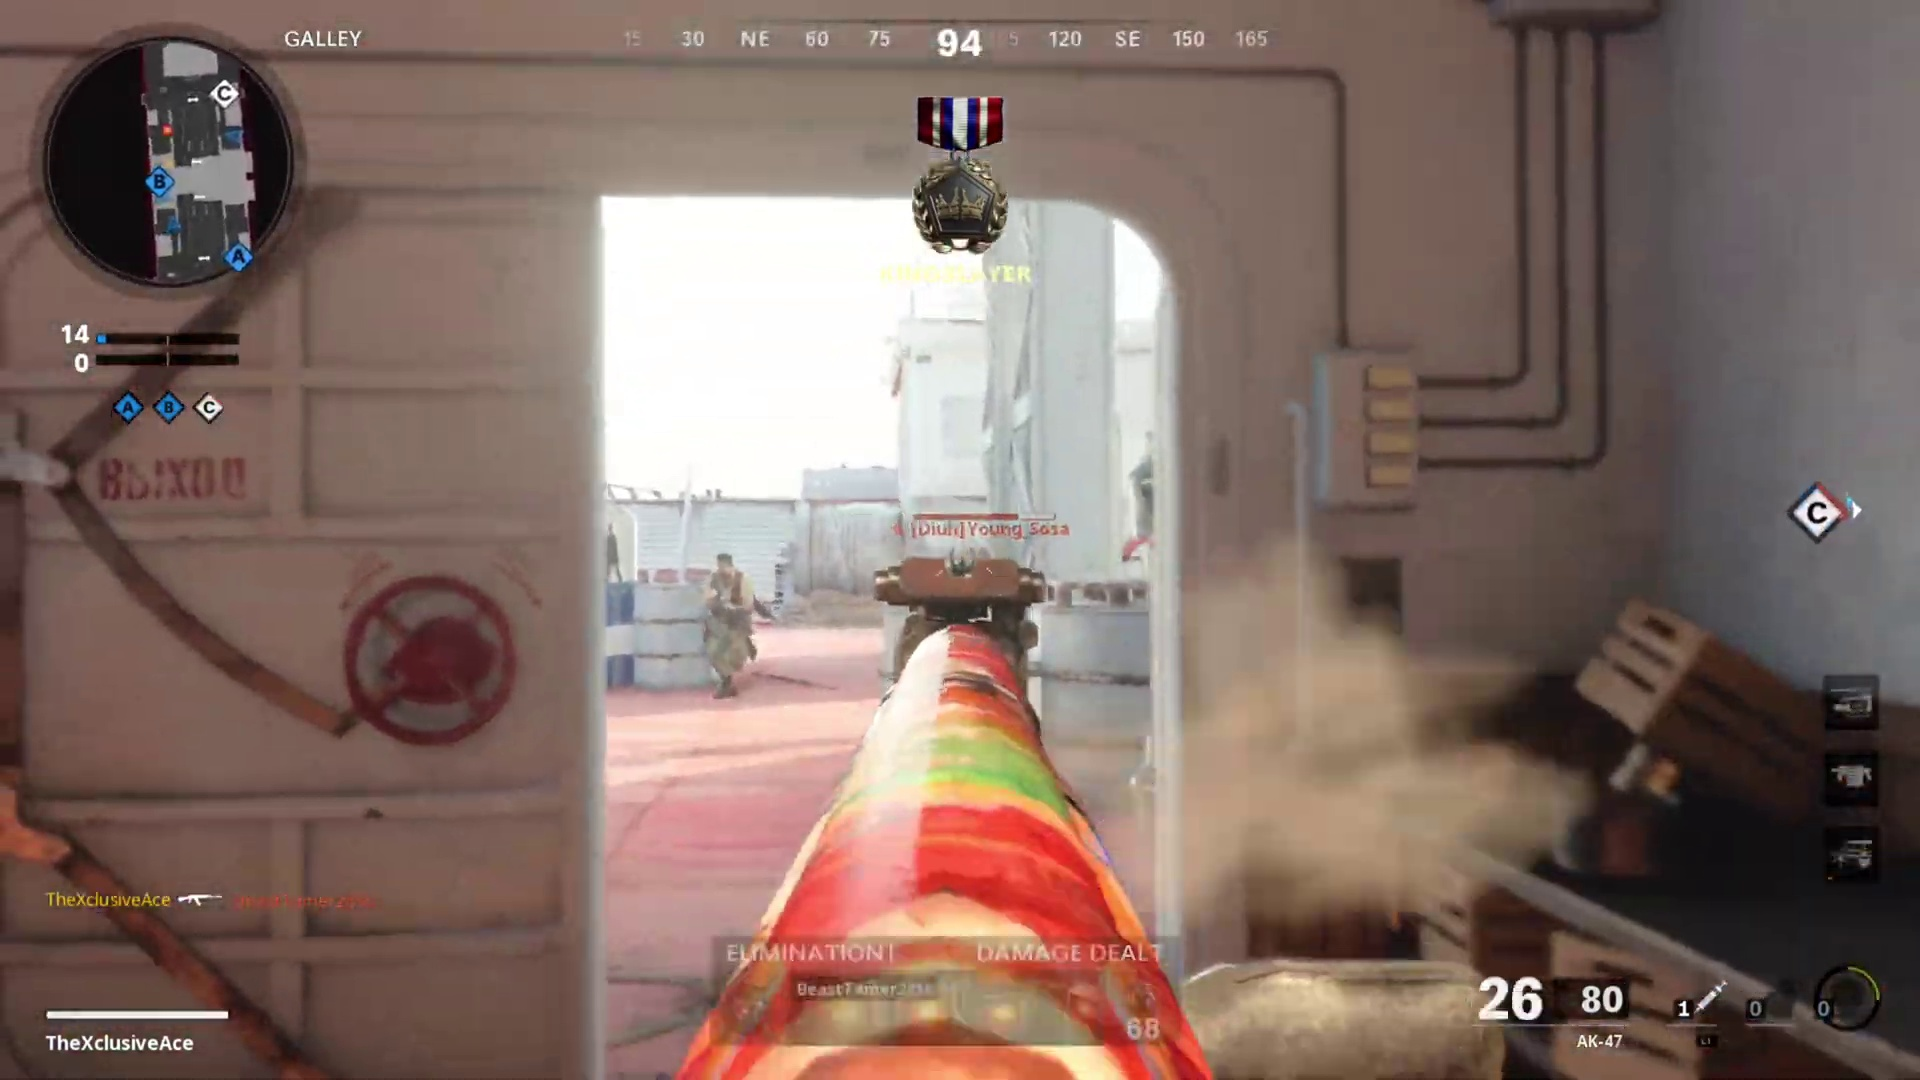head: (709, 549, 740, 584)
person: (697, 548, 759, 699)
